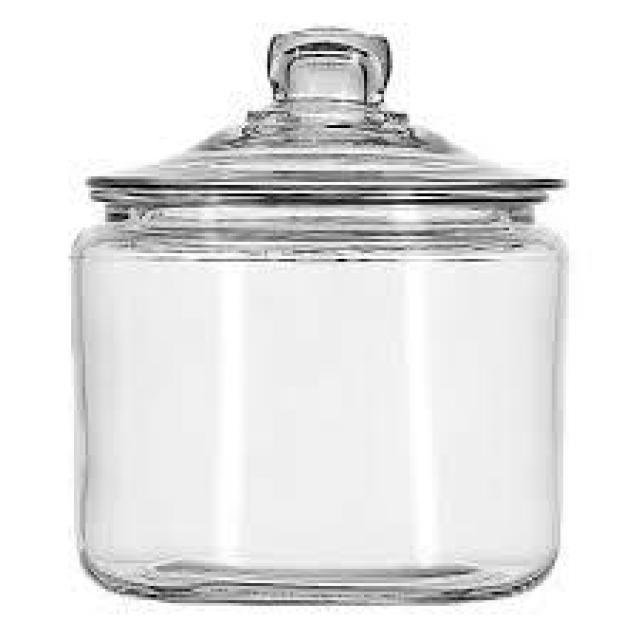glass: (68, 20, 566, 609)
